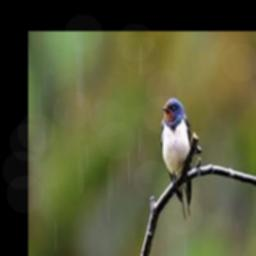Swallow: (160, 98, 192, 220)
